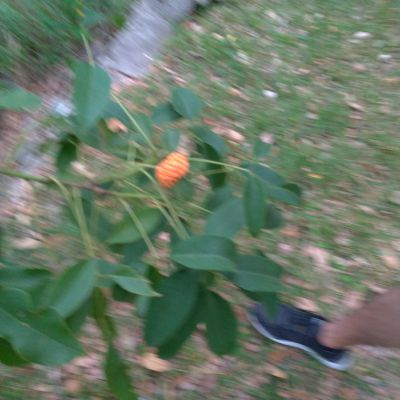eggs: (147, 147, 194, 190)
